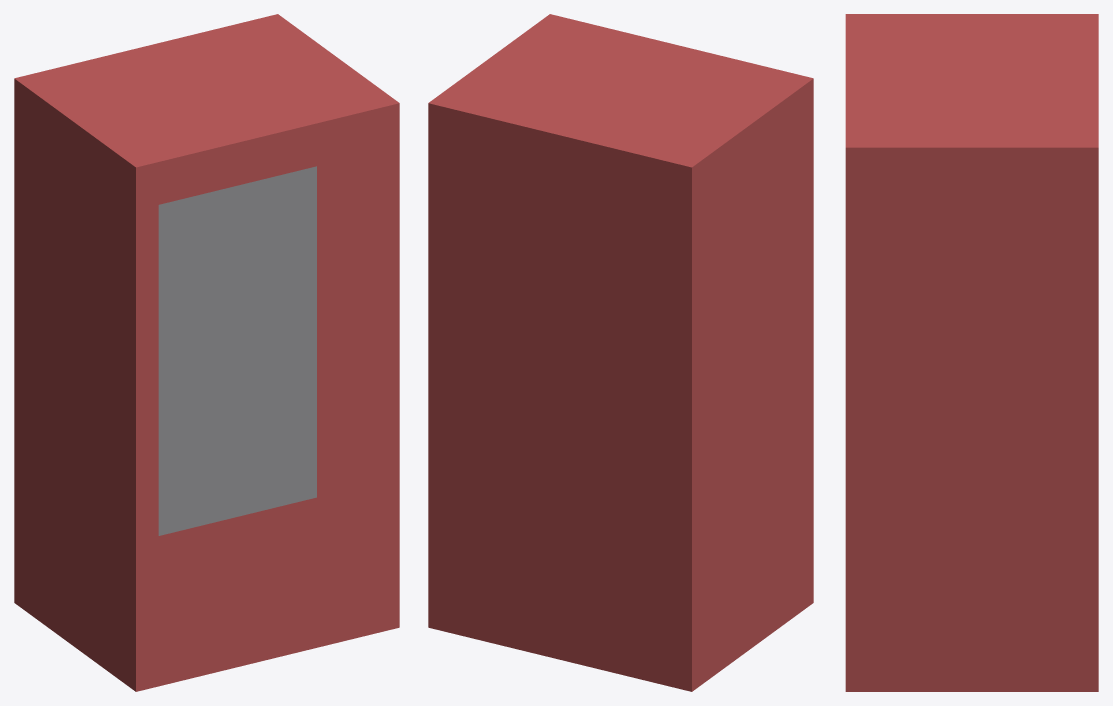
The model's file is vending_red.glb.
3 views of the same model, side by side, from view 1: azimuth 30°, elevation 25°; view 2: azimuth 150°, elevation 25°; view 3: azimuth 270°, elevation 25° (orthographic). The views are drawn at different scales.
Visible parts, largest first — view 1: box, glow; view 2: box; view 3: box.
Part boxes in pixels (left/top/right/bottom): box: left=14, top=14, right=399, bottom=691; glow: left=158, top=166, right=316, bottom=535; box: left=428, top=14, right=813, bottom=691; box: left=845, top=14, right=1098, bottom=691.
Bounding box in the file's own units: 1 × 1.9 × 0.81.
